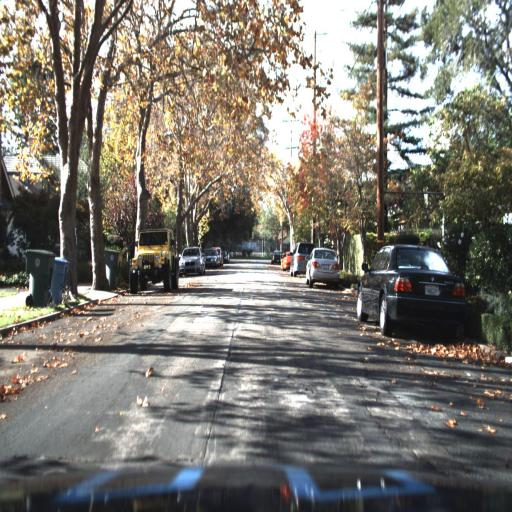car: (349, 225, 473, 347), (119, 223, 182, 300), (302, 241, 344, 288), (177, 239, 208, 280), (289, 239, 307, 279), (203, 248, 220, 271)
